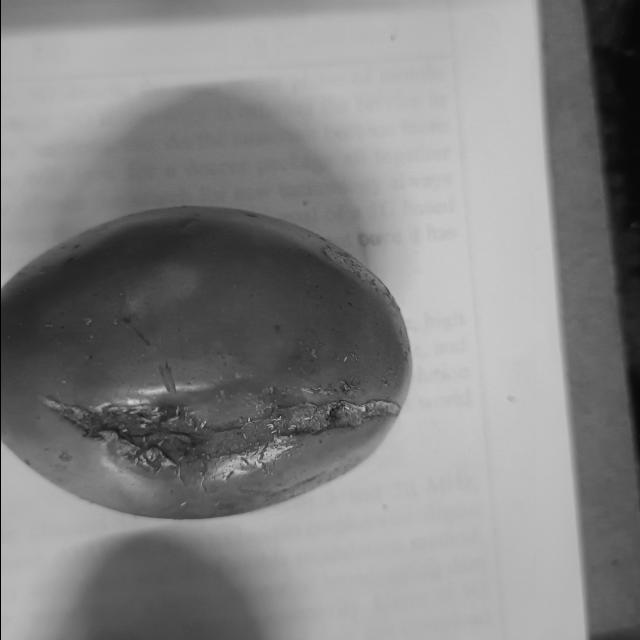tomato_cracking: (31, 382, 425, 488)
